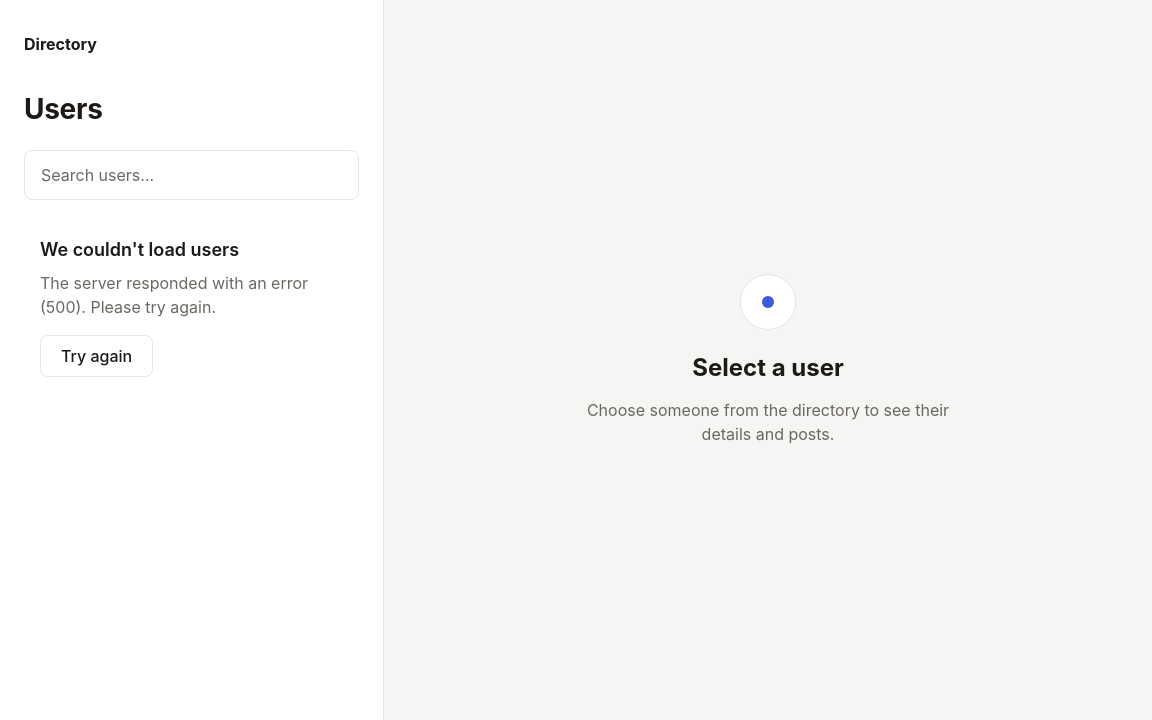
Test case: Users directory › shows an error when users fail to load and recovers after "Try again"
The width and height of the screenshot is (1152, 720).
Expected: the message shows "We couldn't load users", [40,239,239,260]
Expected: the message shows "The server responded with an error (500)", [40,273,308,317]
Click the button "Try again" at (97, 356), box [40,335,153,377]
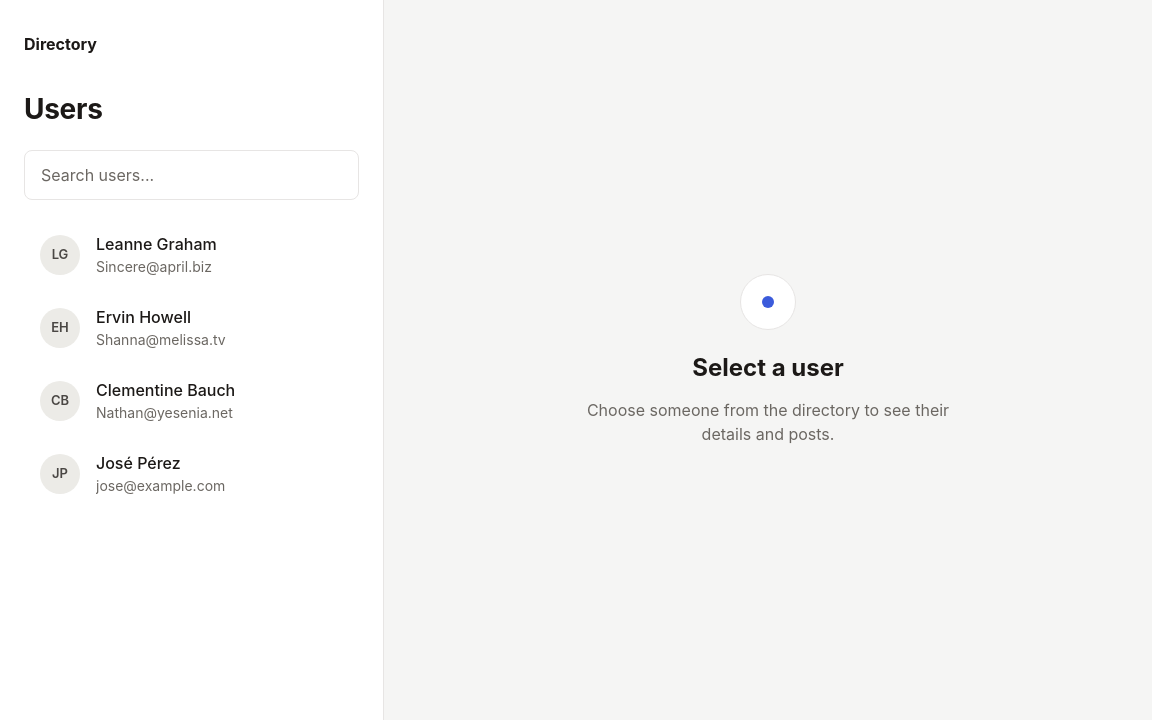
Now the button "LG Leanne Graham Sincere@april.biz" is shown, box [24,220,359,289]
Now the message is gone
